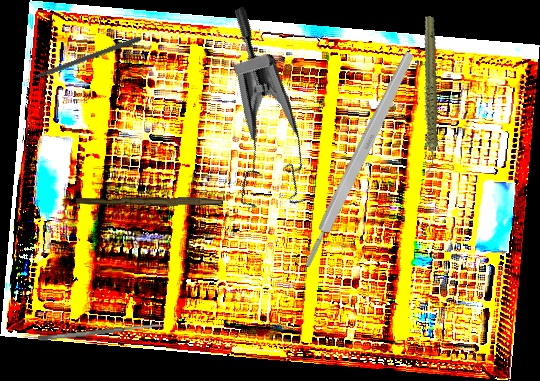Handpiece: (389, 14, 468, 175)
Pusher: (14, 34, 142, 87)
Scalpel Handle: (299, 50, 417, 269), (75, 194, 224, 208)
Spatula Surgical: (38, 322, 162, 342)
Speculum: (157, 4, 343, 229)
